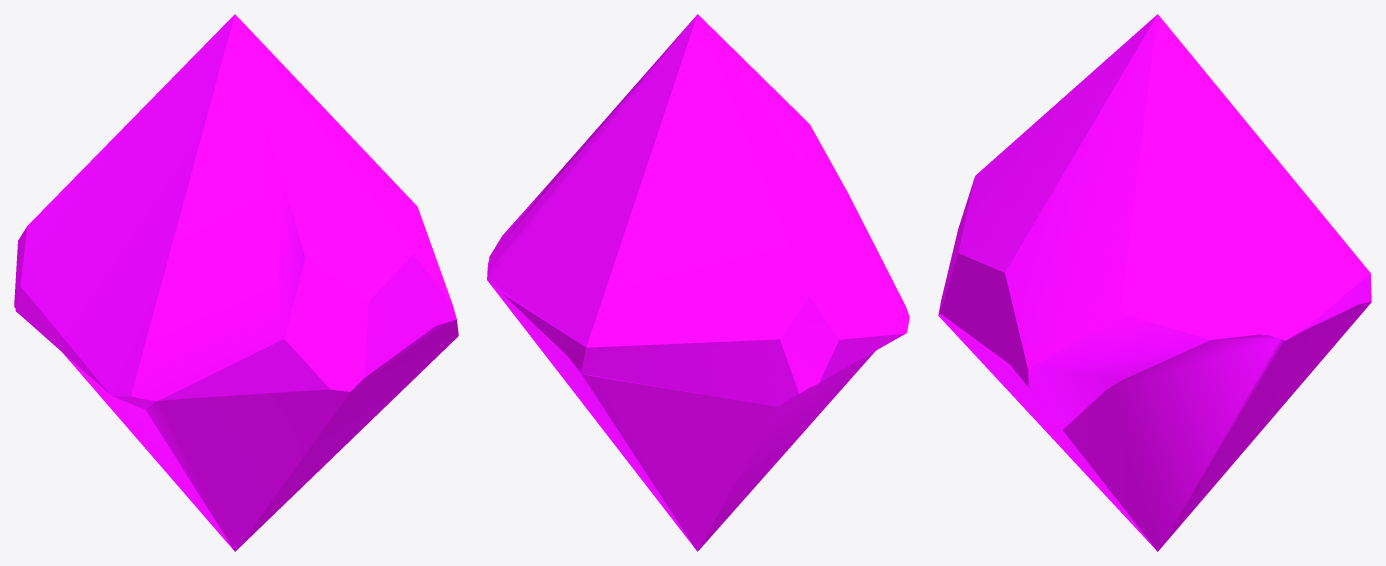
Rendered from gem.fbx.
3 views of the same model, side by side, from view 1: azimuth 30°, elevation 25°; view 2: azimuth 150°, elevation 25°; view 3: azimuth 270°, elevation 25° (orthographic).
Visible parts, largest first — view 1: GemTop; view 2: GemTop; view 3: GemTop.
Boxes of the visible parts, x1,y1,x2,y2 form: GemTop: (14,14,458,551); GemTop: (487,14,909,551); GemTop: (938,14,1371,551).
Bounding box in the file's own units: 87.29 × 126 × 91.98.
